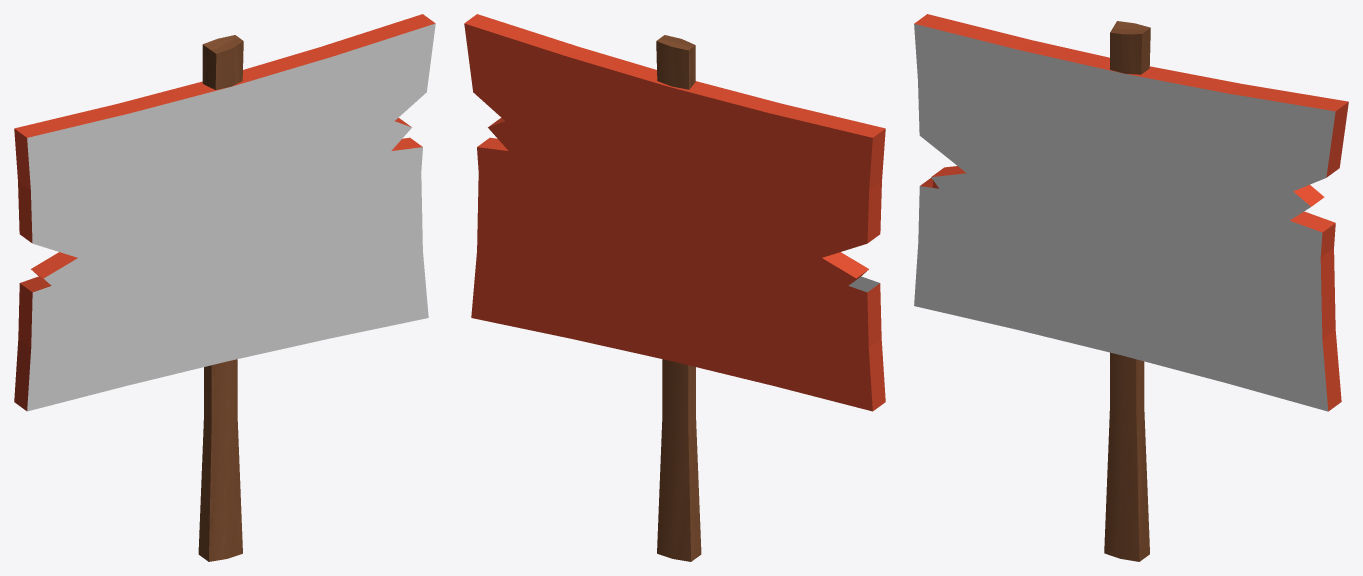
Rendered from Sign.fbx.
3 views of the same model, side by side, from view 1: azimuth 30°, elevation 25°; view 2: azimuth 150°, elevation 25°; view 3: azimuth 330°, elevation 25° (orthographic). The views are drawn at different scales.
Parts seen in each view (by area): view 1: Cube.007, Cube.006, Cube.005; view 2: Cube.005, Cube.006; view 3: Cube.007, Cube.006, Cube.005.
Part boxes in pixels (x1,y1,x2,y2): Cube.007: [27, 23, 435, 411]; Cube.006: [198, 35, 243, 561]; Cube.005: [14, 14, 435, 410]; Cube.005: [464, 14, 885, 411]; Cube.006: [656, 35, 701, 561]; Cube.007: [914, 24, 1335, 411]; Cube.006: [1104, 21, 1150, 561]; Cube.005: [914, 14, 1348, 411].
Bounding box in the file's own units: 159 × 190 × 8.94.
